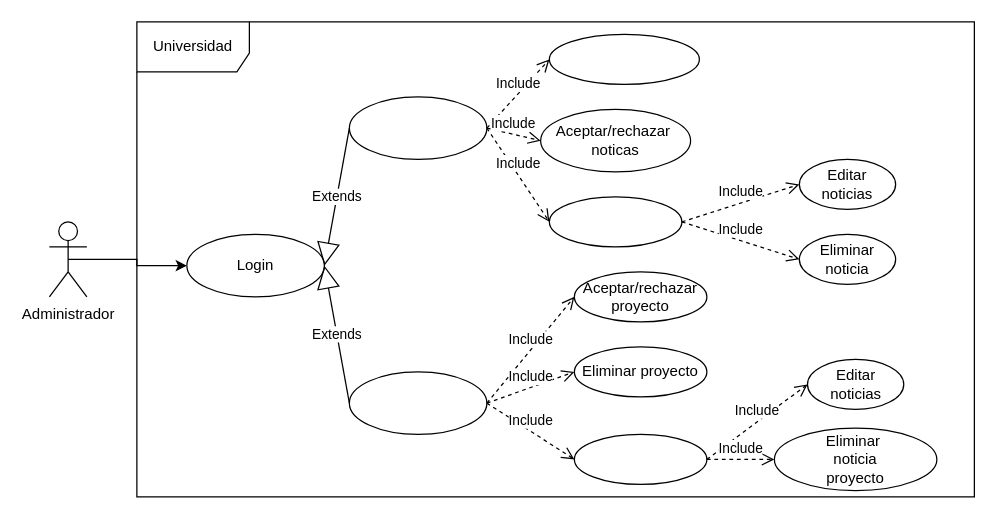
Image size: 996x519. Some labels were removed from this diagram. Here are the shapes that lost their labels. From the top down, the box of each, then its label:
(548, 33, 699, 84): Aceptar/rechazar miembros
(348, 96, 487, 159): Administrar Clubs
(548, 196, 682, 247): Crear noticias clubs
(348, 371, 487, 434): Administrar Proyectos
(573, 433, 707, 484): Crear noticias proyectos
